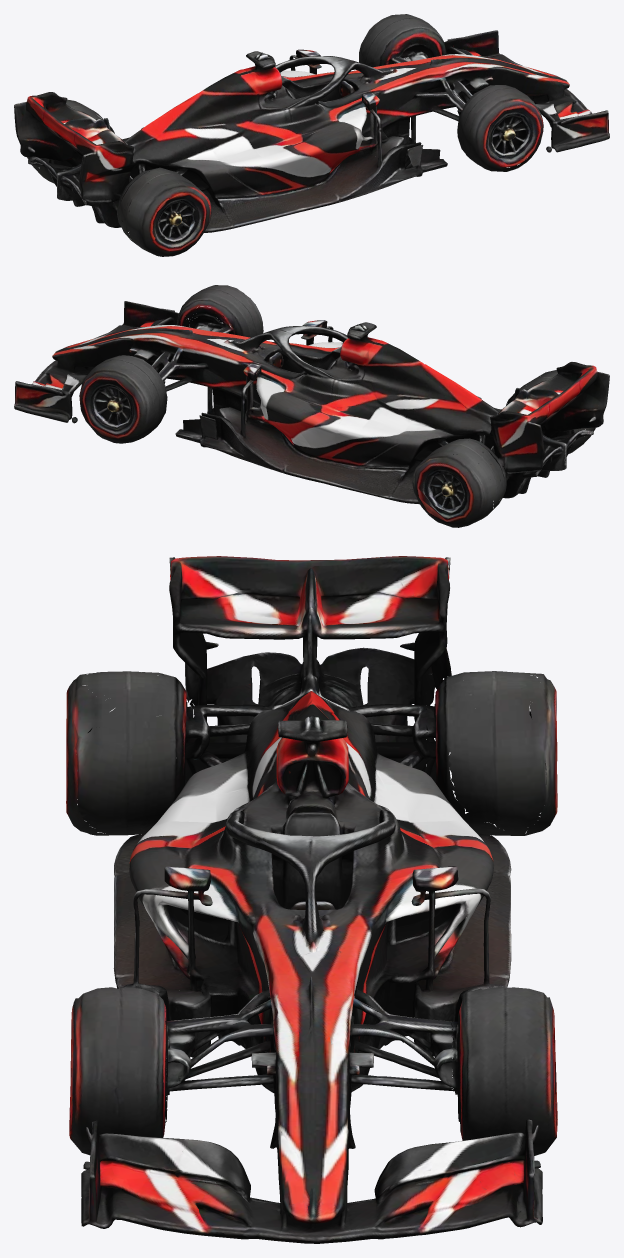
File: tm_tempesta_drive.glb
3 views of the same model, one above another, from view 1: azimuth 30°, elevation 25°; view 2: azimuth 150°, elevation 25°; view 3: azimuth 270°, elevation 25° (orthographic). The views are drawn at different scales.
Parts seen in each view (by area): view 1: body, wheel_FR_part, wheel_RR_part, wheel_FL_part, wheel_RL_part; view 2: body, wheel_FL_part, wheel_RL_part, wheel_FR_part, wheel_RR_part; view 3: body, wheel_FL_part, wheel_FR_part, wheel_RL_part, wheel_RR_part.
Boxes of the visible parts, x1,y1,x2,y2 form: body: (14,30,609,240); wheel_FR_part: (457,85,543,171); wheel_RR_part: (112,167,210,256); wheel_FL_part: (359,14,446,67); wheel_RL_part: (27,99,114,183); body: (14,301,609,508); wheel_FL_part: (79,355,167,443); wheel_RL_part: (412,438,506,527); wheel_FR_part: (176,285,263,337); wheel_RR_part: (507,370,595,453); body: (69,556,546,1243); wheel_FL_part: (449,987,557,1155); wheel_FR_part: (69,987,166,1155); wheel_RL_part: (424,671,557,835); wheel_RR_part: (66,672,196,835).
Bounding box in the file's own units: 1.9 × 0.4439 × 0.7753.
Materials: 3 (3 with a texture image).
